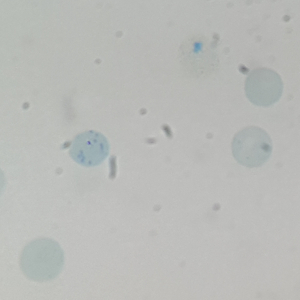aggregate reticulocyte: (68, 130, 112, 169)
erythrocyte: (17, 236, 66, 284), (229, 125, 274, 170), (242, 66, 285, 109)
